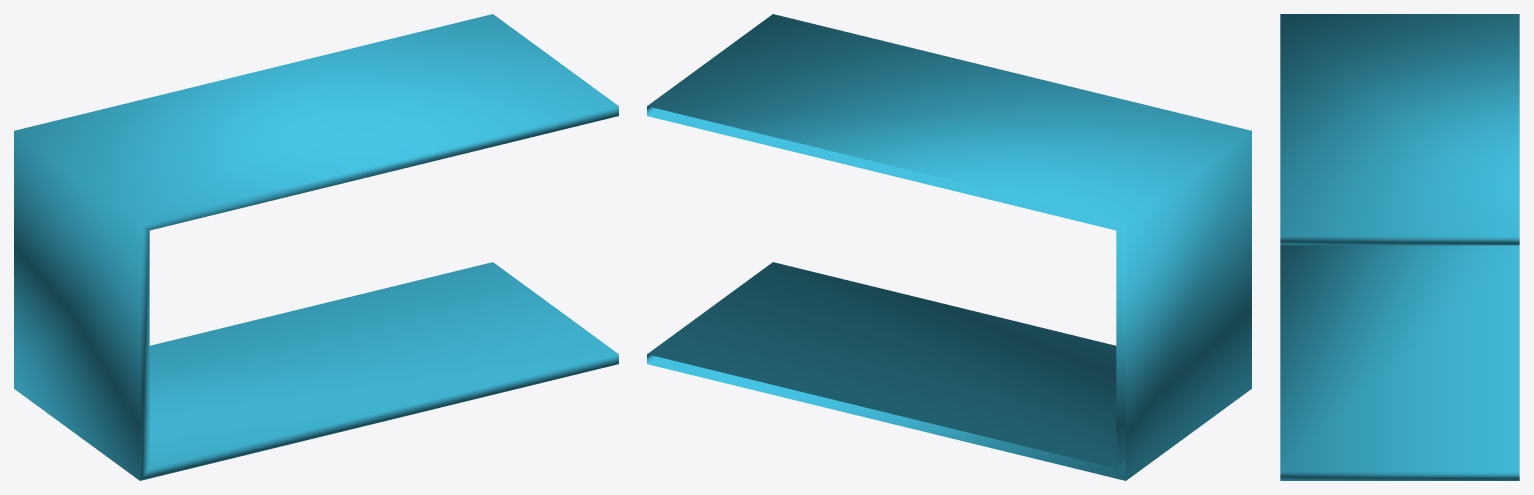
File: glass1.fbx
3 renders of one model, left to right at view 1: azimuth 30°, elevation 25°; view 2: azimuth 150°, elevation 25°; view 3: azimuth 270°, elevation 25°, orthographic. The views are drawn at different scales.
Parts seen in each view (by area): view 1: Plane_488; view 2: Plane_488; view 3: Plane_488.
Part boxes in pixels (x1,y1,x2,y2): Plane_488: (14, 14, 618, 480); Plane_488: (647, 14, 1251, 480); Plane_488: (1280, 14, 1519, 480).
Size of the model in its own units: 10.1 by 5.2 by 4.6.
1 material, 1 textured.
